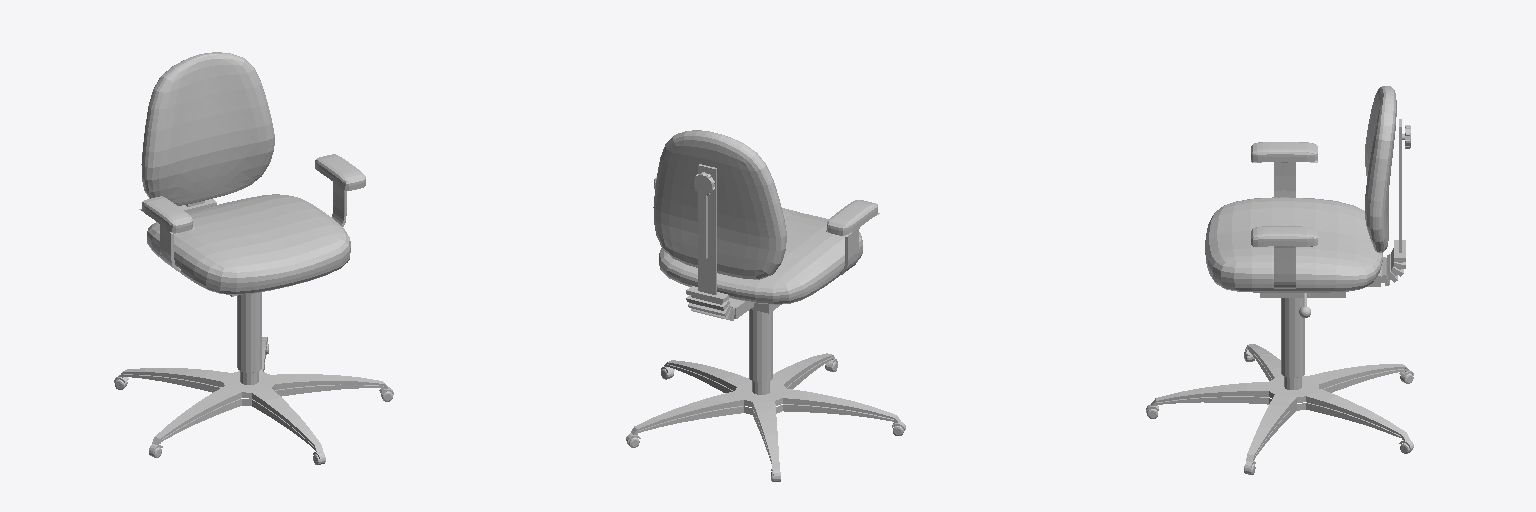
The model's file is office_chair.obj.
3 renders of one model, left to right at view 1: azimuth 30°, elevation 25°; view 2: azimuth 150°, elevation 25°; view 3: azimuth 270°, elevation 25°, orthographic.
Visible parts, largest first — view 1: office_chair.lwo; view 2: office_chair.lwo; view 3: office_chair.lwo.
Part boxes in pixels (x1,y1,x2,y2): office_chair.lwo: (114,52,393,464); office_chair.lwo: (626,130,905,481); office_chair.lwo: (1146,86,1413,474).
Bounding box in the file's own units: 62.85 × 79.43 × 59.77.